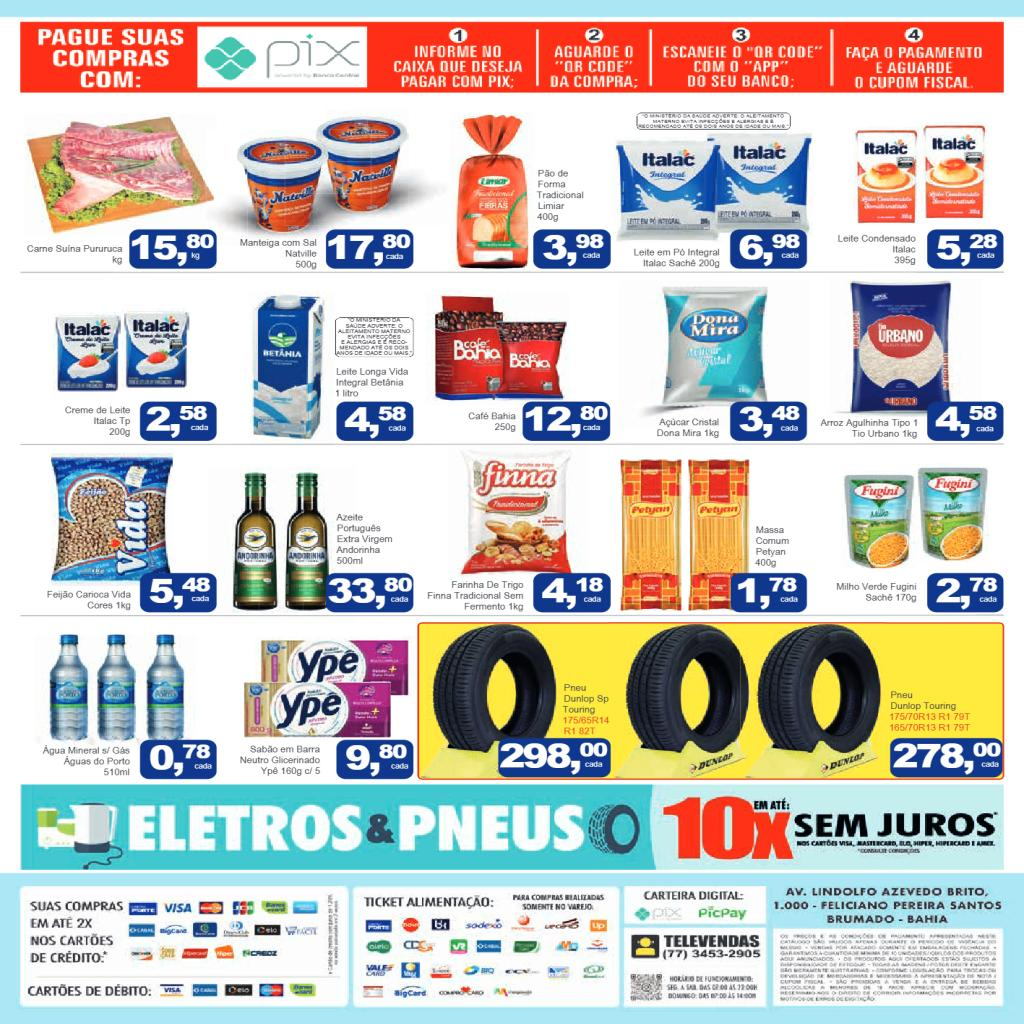price: (890, 741, 1002, 776), (500, 741, 610, 776), (326, 576, 414, 611), (326, 233, 412, 267), (130, 232, 214, 266), (524, 405, 610, 438), (146, 574, 213, 612), (341, 742, 410, 778), (933, 404, 1001, 440), (933, 232, 1000, 268), (933, 575, 1000, 611), (146, 742, 213, 778), (538, 233, 608, 267), (737, 232, 803, 268), (736, 404, 803, 439), (735, 576, 803, 610), (341, 405, 410, 438), (144, 405, 210, 439), (540, 576, 606, 610)
product_text: (887, 688, 973, 734), (334, 512, 398, 568), (426, 578, 528, 612), (40, 742, 133, 778), (236, 742, 324, 779), (535, 166, 587, 222), (835, 232, 918, 266), (562, 682, 613, 737), (238, 236, 318, 270), (62, 404, 134, 440), (332, 365, 410, 398), (818, 416, 920, 440), (23, 243, 125, 266), (630, 246, 722, 270), (832, 580, 920, 604), (45, 587, 133, 611), (752, 524, 794, 568), (653, 416, 721, 440), (466, 408, 519, 433)
